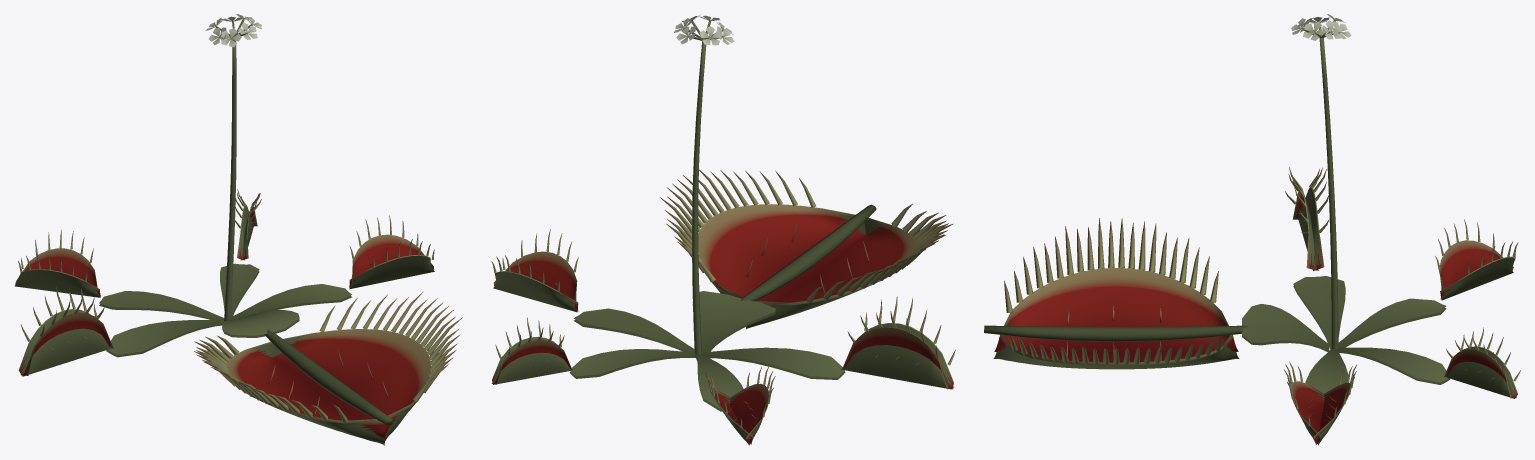
The model's file is flytrap.glb.
3 views of the same model, side by side, from view 1: azimuth 30°, elevation 25°; view 2: azimuth 150°, elevation 25°; view 3: azimuth 270°, elevation 25° (orthographic). The views are drawn at different scales.
Visible parts, largest first — view 1: flytrap_base, flytrap_lobe_l, flytrap_lobe_r; view 2: flytrap_base, flytrap_lobe_l, flytrap_lobe_r; view 3: flytrap_base, flytrap_lobe_r, flytrap_lobe_l.
Boxes of the visible parts, box(x1,y1,x2,y2) form: flytrap_base: box(14, 14, 434, 424); flytrap_lobe_l: box(273, 291, 462, 445); flytrap_lobe_r: box(194, 335, 384, 444); flytrap_base: box(491, 15, 955, 445); flytrap_lobe_l: box(660, 169, 866, 329); flytrap_lobe_r: box(746, 203, 953, 328); flytrap_base: box(984, 14, 1520, 445); flytrap_lobe_r: box(1003, 218, 1239, 358); flytrap_lobe_l: box(993, 334, 1238, 369).
Size of the model in its own units: 4.71 by 3.38 by 4.79.
